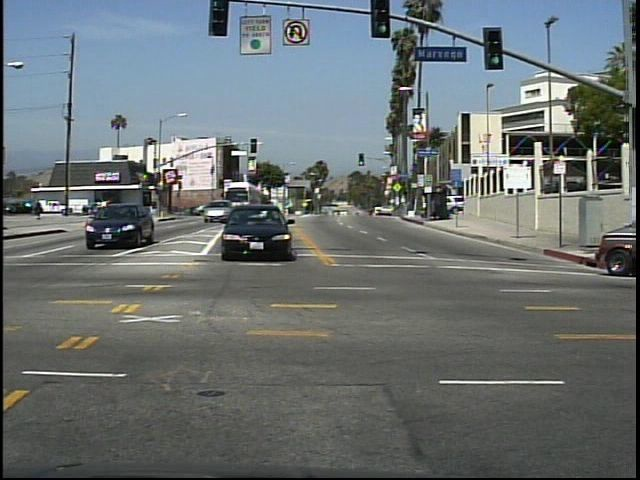person: (32, 194, 47, 223)
